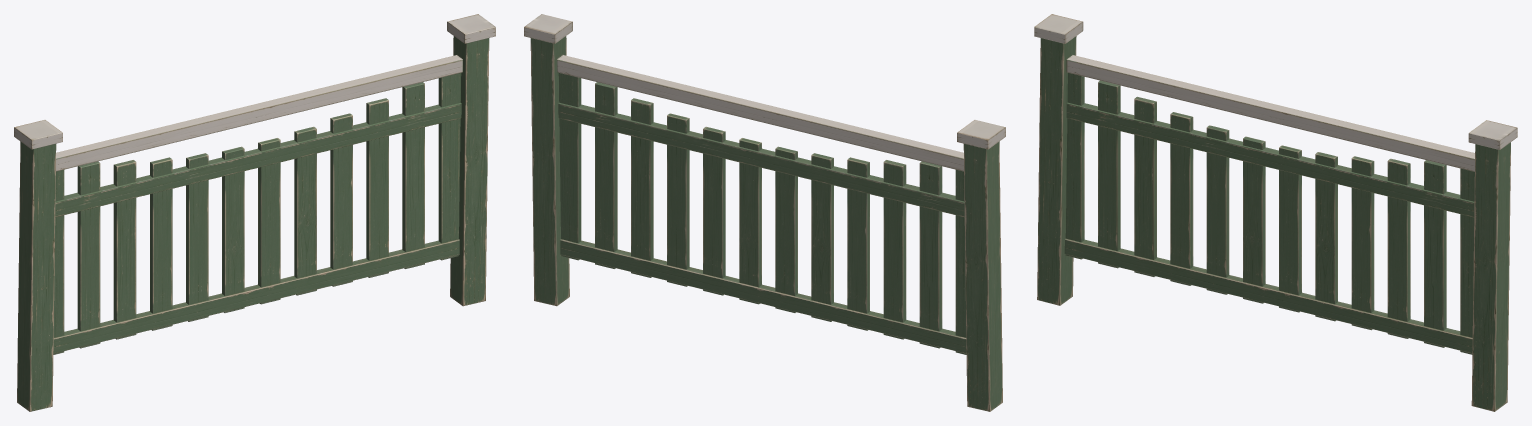
File: painted-palisadnik-literal-pbr-2k.glb
The picture shows the model from 3 angles, left to right: view 1: azimuth 30°, elevation 25°; view 2: azimuth 150°, elevation 25°; view 3: azimuth 330°, elevation 25°; orthographic projection.
Visible parts, largest first — view 1: Palisadnik_Post_0, Palisadnik_CapRail, Palisadnik_Post_1, Palisadnik_BearingRail_0, Palisadnik_BearingRail_1, Palisadnik_Picket_01, Palisadnik_Picket_10, Palisadnik_Picket_02, Palisadnik_Picket_11, Palisadnik_Picket_09, Palisadnik_Picket_03, Palisadnik_Picket_08 (+7 smaller); view 2: Palisadnik_Post_0, Palisadnik_CapRail, Palisadnik_Post_1, Palisadnik_BearingRail_0, Palisadnik_BearingRail_1, Palisadnik_Picket_01, Palisadnik_Picket_10, Palisadnik_Picket_02, Palisadnik_Picket_11, Palisadnik_Picket_09, Palisadnik_Picket_03, Palisadnik_Picket_08 (+7 smaller); view 3: Palisadnik_Post_1, Palisadnik_CapRail, Palisadnik_Post_0, Palisadnik_BearingRail_1, Palisadnik_BearingRail_0, Palisadnik_Picket_01, Palisadnik_Picket_10, Palisadnik_Picket_09, Palisadnik_Picket_02, Palisadnik_Picket_08, Palisadnik_Picket_03, Palisadnik_Picket_04 (+7 smaller).
Boxes of the visible parts, x1,y1,x2,y2 form: Palisadnik_Post_0: (17, 141, 56, 411); Palisadnik_CapRail: (56, 55, 462, 171); Palisadnik_Post_1: (450, 36, 489, 306); Palisadnik_BearingRail_0: (53, 239, 459, 353); Palisadnik_BearingRail_1: (55, 102, 461, 217); Palisadnik_Picket_01: (77, 161, 100, 348); Palisadnik_Picket_10: (402, 82, 424, 268); Palisadnik_Picket_02: (113, 160, 136, 339); Palisadnik_Picket_11: (438, 73, 461, 260); Palisadnik_Picket_09: (366, 98, 388, 277); Palisadnik_Picket_03: (150, 157, 172, 330); Palisadnik_Picket_08: (330, 113, 352, 286); Palisadnik_Post_0: (963, 141, 1002, 411); Palisadnik_CapRail: (557, 55, 963, 171); Palisadnik_Post_1: (530, 36, 569, 306); Palisadnik_BearingRail_0: (560, 239, 966, 353); Palisadnik_BearingRail_1: (558, 102, 964, 217); Palisadnik_Picket_01: (919, 161, 942, 348); Palisadnik_Picket_10: (595, 82, 617, 268); Palisadnik_Picket_02: (883, 160, 906, 339); Palisadnik_Picket_11: (558, 73, 581, 260); Palisadnik_Picket_09: (631, 98, 653, 277); Palisadnik_Picket_03: (847, 157, 869, 330); Palisadnik_Picket_08: (667, 113, 689, 286); Palisadnik_Post_1: (1471, 142, 1510, 411); Palisadnik_CapRail: (1066, 55, 1474, 171); Palisadnik_Post_0: (1037, 36, 1076, 305); Palisadnik_BearingRail_1: (1066, 102, 1474, 217); Palisadnik_BearingRail_0: (1064, 238, 1472, 353); Palisadnik_Picket_01: (1098, 80, 1120, 268); Palisadnik_Picket_10: (1424, 160, 1446, 347); Palisadnik_Picket_09: (1387, 158, 1410, 338); Palisadnik_Picket_02: (1134, 96, 1156, 276); Palisadnik_Picket_08: (1351, 156, 1374, 330); Palisadnik_Picket_03: (1170, 112, 1193, 285); Palisadnik_Picket_04: (1206, 125, 1229, 294).
Size of the model in its own units: 2.25 by 1.27 by 0.15.
3 materials, 3 textured.
